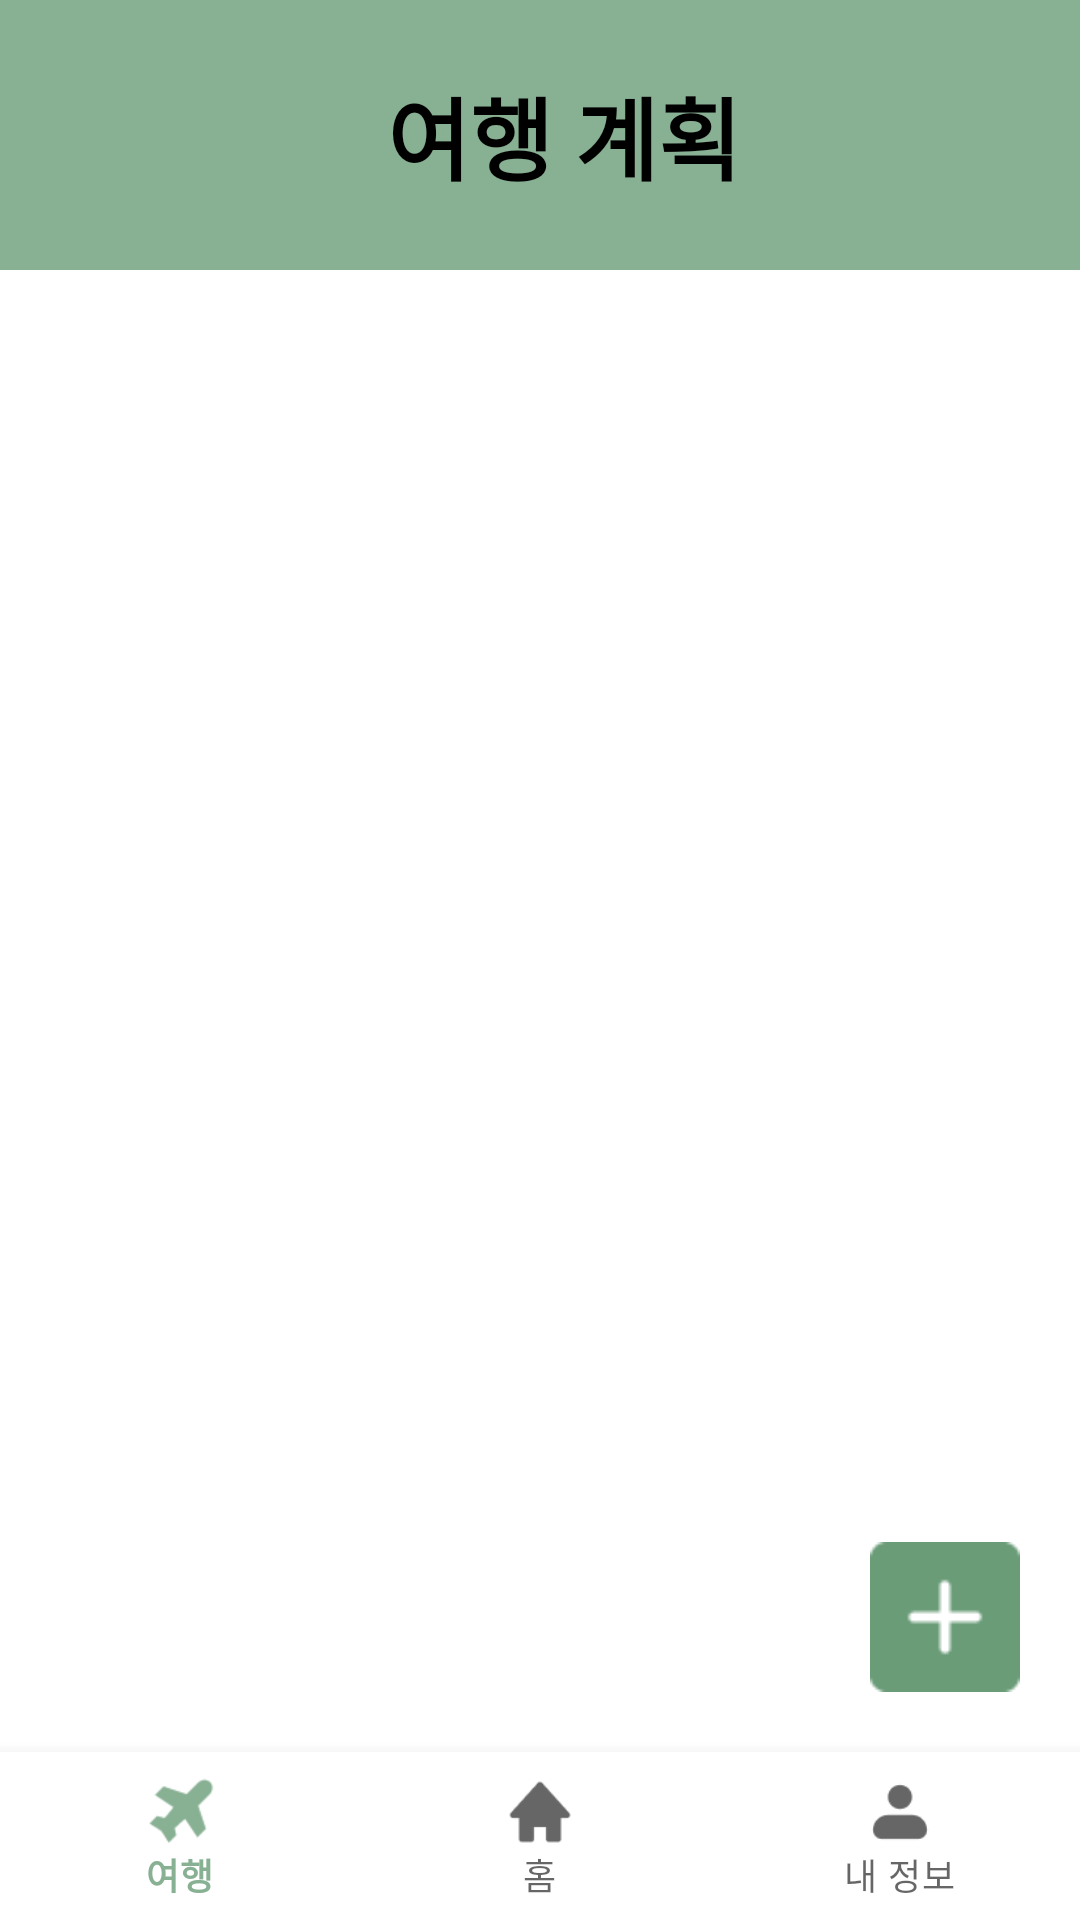

Icon bounding boxes for this 1080 × 1920 phone screenshot, format (x1, y1, x2, y2):
여행 추가: (870, 1542, 1020, 1692)
